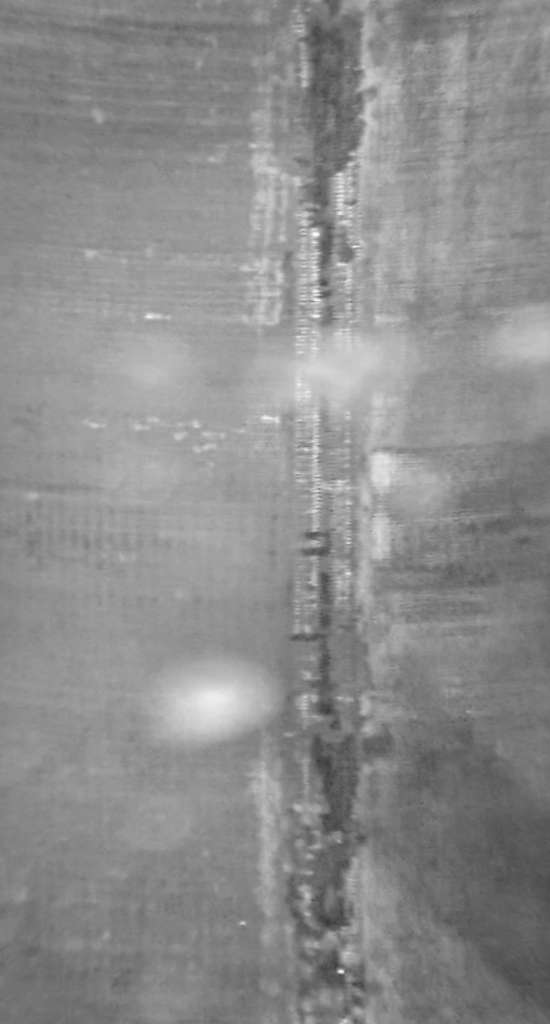splice: (279, 3, 371, 1024)
